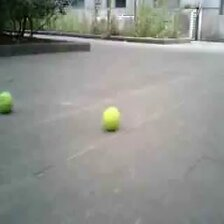tennis: (102, 106, 120, 131), (1, 91, 14, 114)
